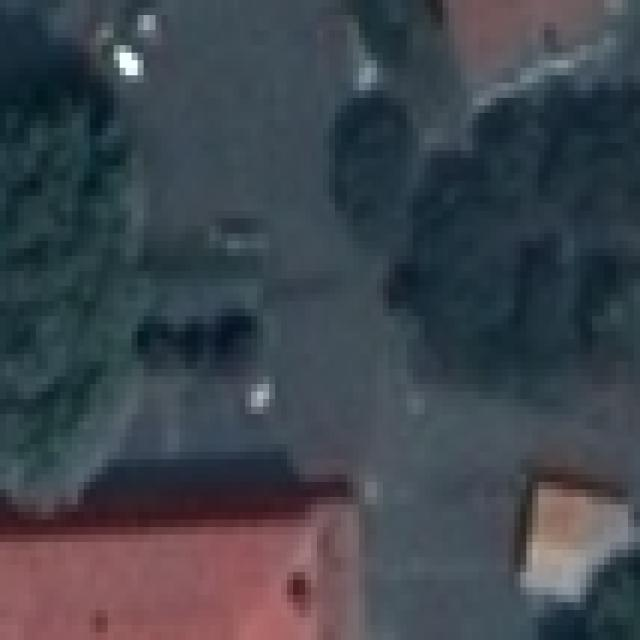trees: (1, 54, 204, 521), (396, 84, 640, 408), (330, 91, 420, 257), (536, 558, 640, 640)
